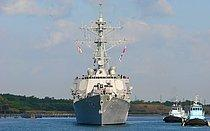MIL_Ship: (69, 6, 132, 126)
